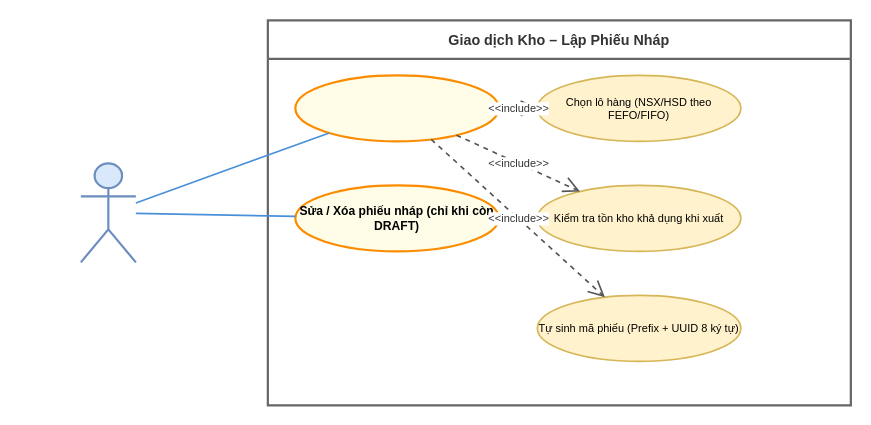
Some shapes in this 871 by 425 pixel diagram are drawn without their labels. The shapes that lost their labels are listed below. From the top down, each one's box as (x1, y1, x2, y2) in pixels, then its label:
(294, 74, 499, 142): Lập phiếu kho nháp (IMPORT / EXPORT / TRANSFER)
(79, 162, 136, 263): Quản lý chi nhánh (MANAGER)
